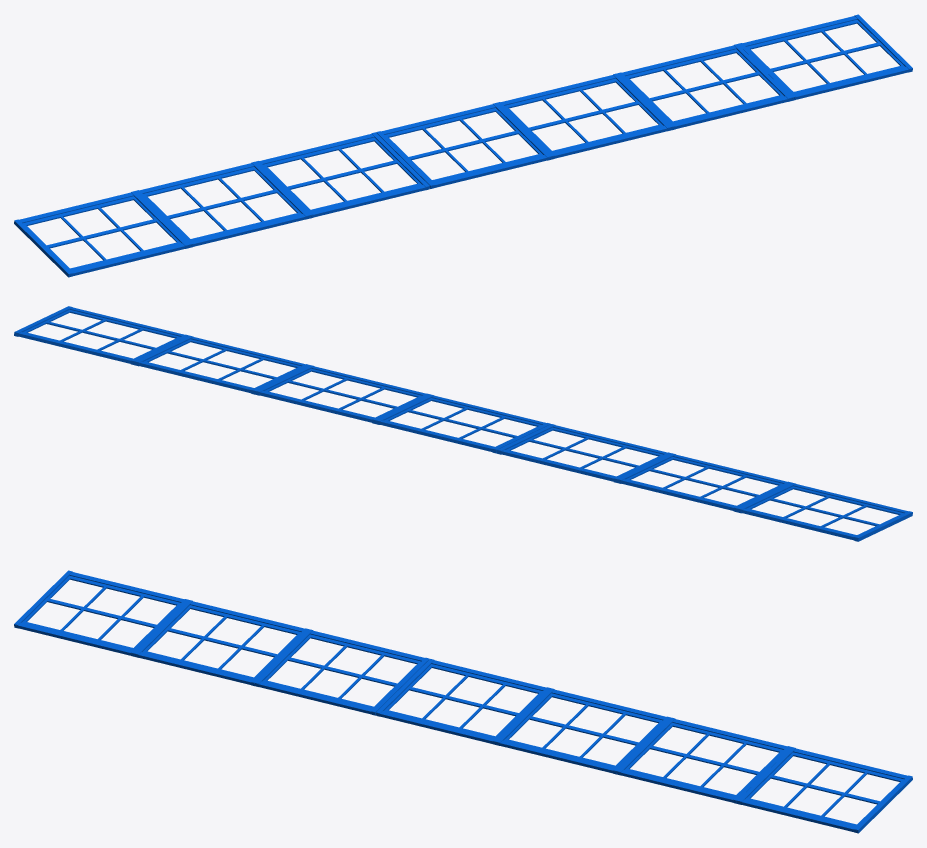
The model's file is Warehouse_02C_Window_01.fbx.
3 renders of one model, top to bottom at view 1: azimuth 30°, elevation 25°; view 2: azimuth 150°, elevation 25°; view 3: azimuth 330°, elevation 25°, orthographic.
Parts seen in each view (by area): view 1: Warehouse_02C_Window_01; view 2: Warehouse_02C_Window_01; view 3: Warehouse_02C_Window_01.
Part boxes in pixels (x1,y1,x2,y2): Warehouse_02C_Window_01: [14, 14, 912, 277]; Warehouse_02C_Window_01: [14, 306, 912, 541]; Warehouse_02C_Window_01: [14, 570, 912, 833].
Bounding box in the file's own units: 3464 × 68.59 × 389.
